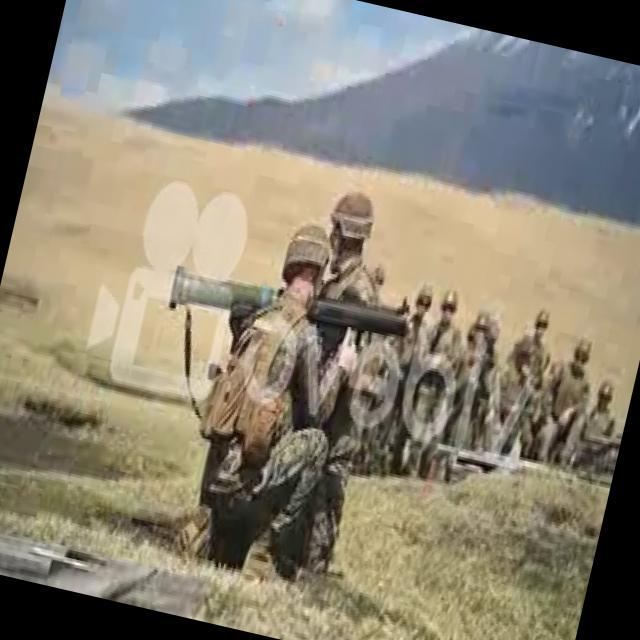rocket: (166, 245, 417, 368)
